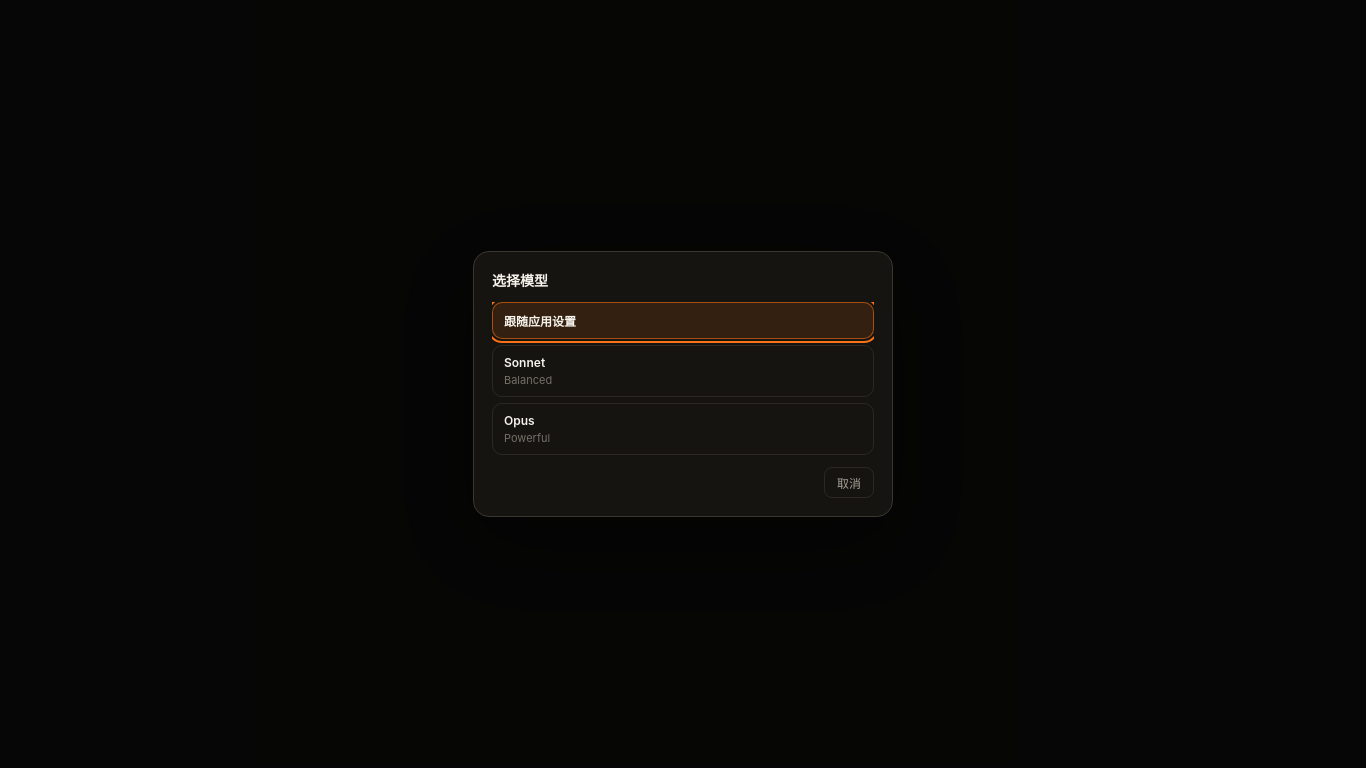
Test case: SlashCommandDialog › 失败时保留对话框并显示错误
Click the button "Sonnet Balanced": (525, 362) x1=492 y1=345 x2=874 y2=397
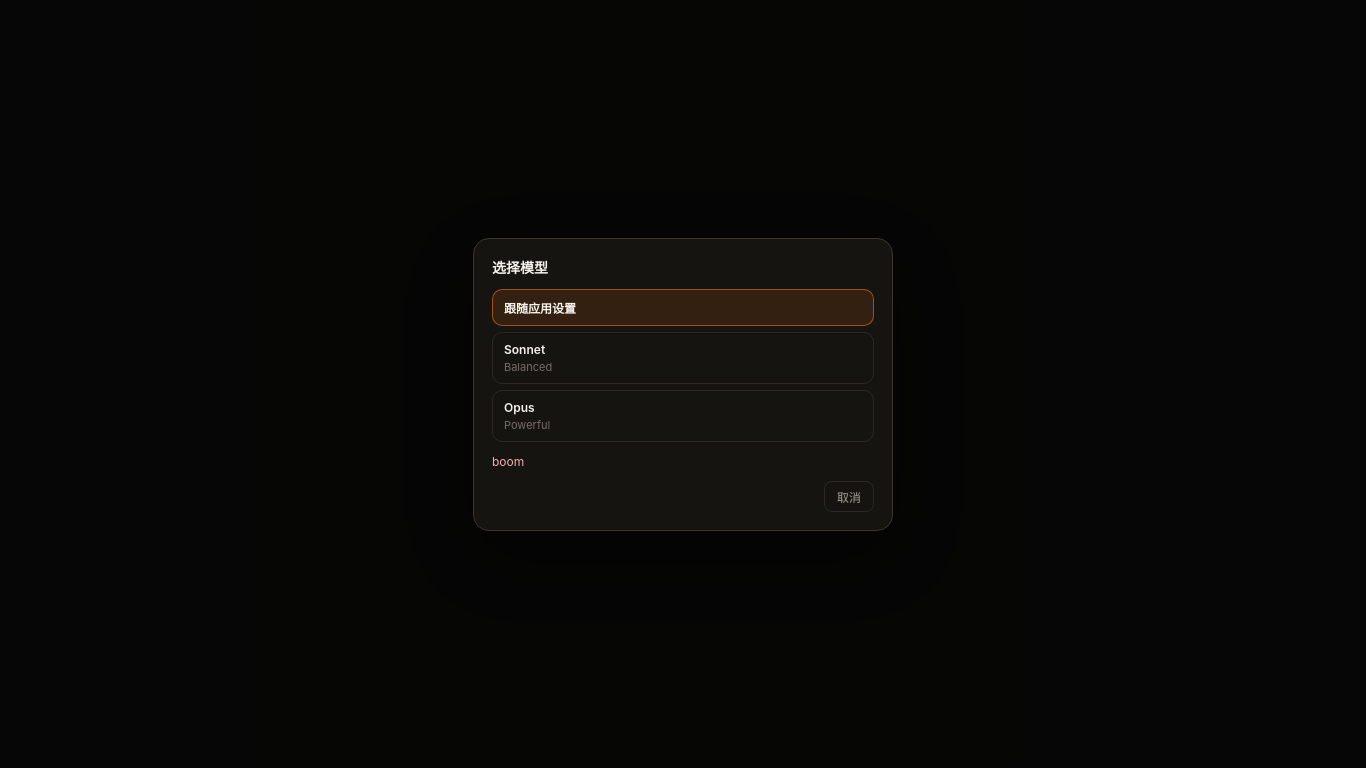
Expected: the text "boom" is shown, x1=492 y1=454 x2=524 y2=468
